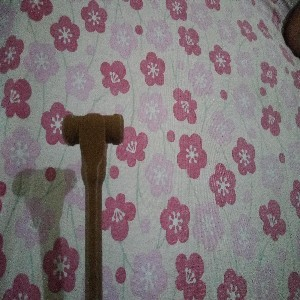palu: (61, 112, 124, 300)
